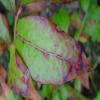Blueberry leaf: (15, 17, 97, 86)
